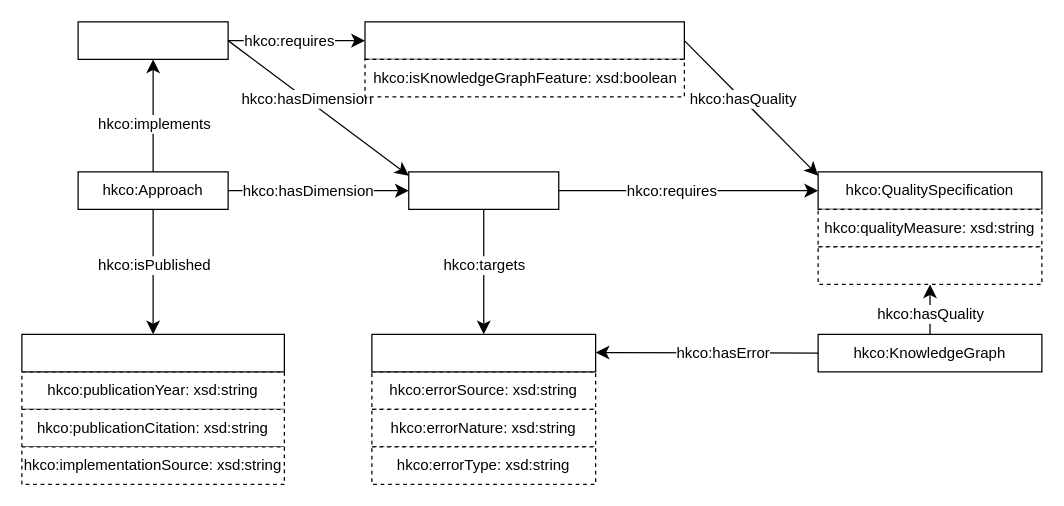
Some shapes in this 1064 by 506 pixel diagram are drawn without their labels. The centre of each missing label's shape, as x and y in pixels:
"hkco:BackgroundKnowledge" belongs at (524,40).
"hkco:Dimension" belongs at (483,190).
"hkco:Error" belongs at (483,352).
"hkco:measureValue: xsd:string" belongs at (929,265).
"hkco:Publication" belongs at (152,352).
"hkco:Technique" belongs at (152,40).
